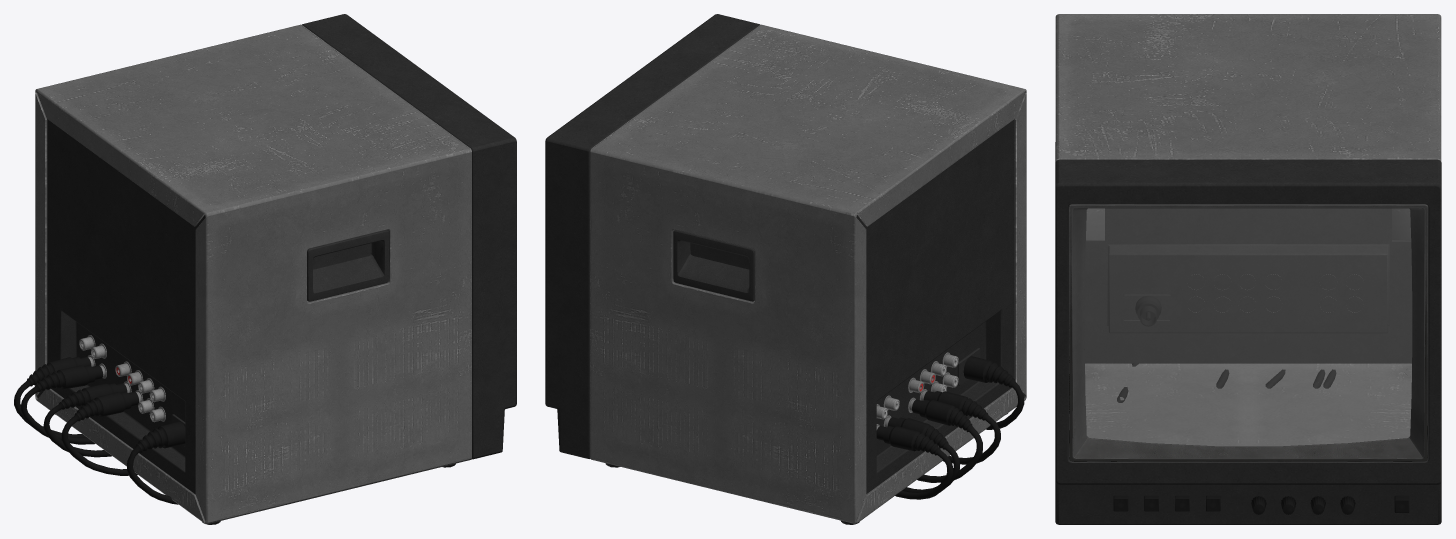
The model's file is monitor.gltf.
The picture shows the model from 3 angles, left to right: view 1: azimuth 30°, elevation 25°; view 2: azimuth 150°, elevation 25°; view 3: azimuth 270°, elevation 25°; orthographic projection. The views are drawn at different scales.
Parts seen in each view (by area): view 1: TV_CCTV_02; view 2: TV_CCTV_02; view 3: TV_CCTV_02.
Part boxes in pixels (left/top/right/bottom): TV_CCTV_02: left=14, top=14, right=516, bottom=524; TV_CCTV_02: left=545, top=14, right=1026, bottom=524; TV_CCTV_02: left=1055, top=14, right=1441, bottom=524.
Size of the model in its own units: 10.05 by 8.33 by 8.09.
